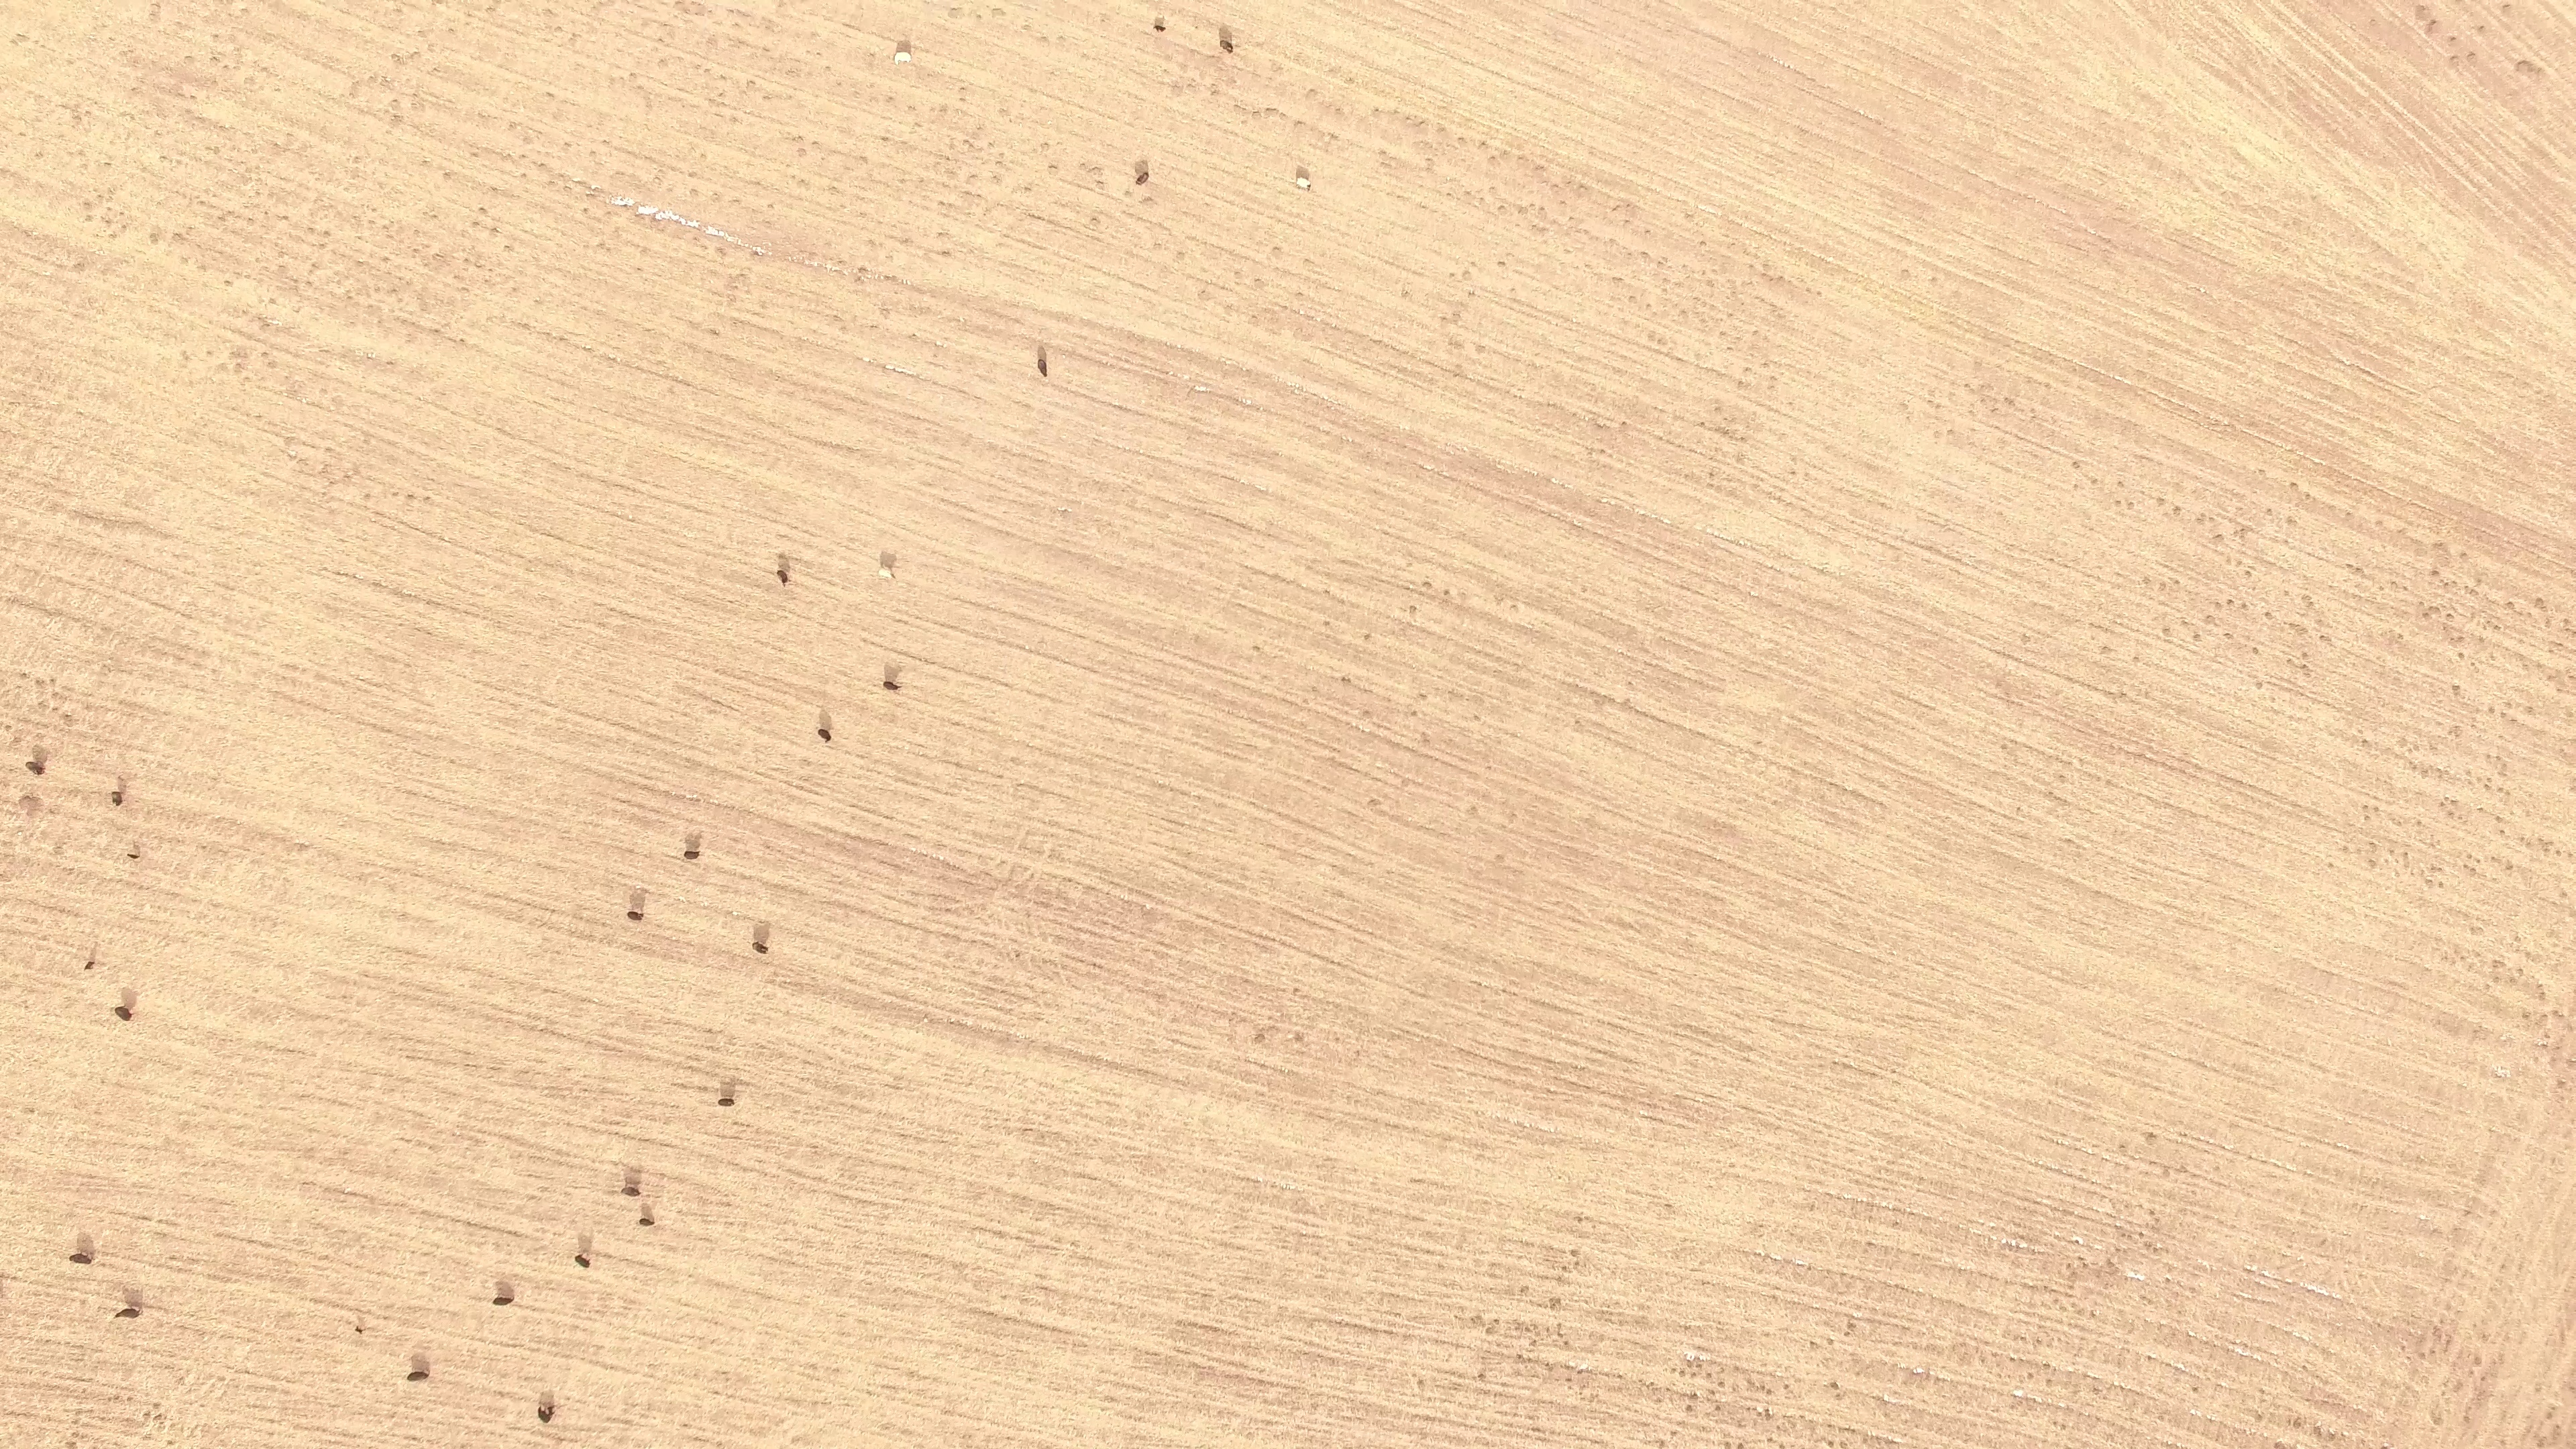sheep: (533, 1400, 557, 1430), (112, 1303, 146, 1322), (66, 1250, 99, 1268), (111, 1003, 139, 1024), (405, 1367, 431, 1387), (23, 759, 48, 778), (749, 937, 772, 957), (572, 1252, 592, 1271), (108, 787, 127, 809), (491, 1293, 515, 1310), (619, 1182, 643, 1200), (681, 846, 704, 863), (815, 725, 835, 745), (1133, 170, 1152, 189), (876, 565, 898, 582), (773, 568, 792, 590), (1218, 36, 1236, 56), (636, 1214, 658, 1230), (625, 908, 647, 924), (892, 50, 915, 66), (716, 1093, 738, 1110), (881, 677, 902, 694), (1034, 356, 1050, 379), (1293, 174, 1313, 192), (1150, 21, 1169, 35), (81, 958, 98, 973), (125, 851, 142, 863), (352, 1325, 365, 1336)
unknown: (877, 551, 900, 572), (630, 890, 648, 911), (636, 204, 659, 217), (1762, 1406, 1774, 1424), (21, 792, 38, 805), (2425, 17, 2438, 34), (1683, 1402, 1696, 1415), (627, 1165, 643, 1176), (2290, 1417, 2304, 1430), (2012, 1388, 2025, 1399), (1827, 1379, 1841, 1393), (1844, 1320, 1857, 1332), (775, 551, 789, 563), (1763, 1386, 1774, 1397), (1552, 1295, 1564, 1307), (1568, 1247, 1580, 1260), (2145, 1129, 2157, 1141), (2419, 609, 2432, 621), (1529, 1425, 1543, 1435), (2449, 682, 2463, 694), (1825, 1438, 1837, 1449), (1712, 1402, 1724, 1414), (1476, 1371, 1487, 1381), (1693, 1360, 1705, 1371), (2136, 1273, 2147, 1283), (2125, 1269, 2137, 1280), (2076, 1236, 2086, 1247), (1290, 985, 1301, 996), (1440, 587, 1452, 598), (2430, 568, 2441, 578), (2524, 64, 2536, 75), (2519, 57, 2531, 68), (1658, 1438, 1668, 1449), (1892, 1435, 1903, 1445), (2310, 1424, 2322, 1436), (2461, 1413, 2472, 1425), (150, 1400, 160, 1410), (124, 1394, 134, 1404), (1707, 1387, 1717, 1397), (2190, 1384, 2201, 1395), (1758, 1383, 1768, 1393), (1415, 1377, 1426, 1388), (1255, 1377, 1266, 1387), (1677, 1368, 1687, 1378), (1914, 1365, 1925, 1376), (2472, 1354, 2482, 1365), (1515, 1352, 1525, 1362), (2417, 1350, 2428, 1360), (1807, 1339, 1817, 1349), (1561, 1338, 1572, 1348), (1825, 1337, 1836, 1348), (1483, 1325, 1493, 1336), (1521, 1324, 1533, 1334), (1199, 1322, 1210, 1332), (1473, 1313, 1485, 1324), (1555, 1275, 1565, 1285), (2261, 1269, 2271, 1279), (1559, 1263, 1570, 1274), (2080, 1261, 2090, 1271), (1572, 1258, 1582, 1269), (2104, 1258, 2114, 1268), (2136, 1230, 2146, 1240), (1574, 1214, 1585, 1225), (2555, 1077, 2566, 1088), (1840, 1061, 1851, 1072), (1254, 1030, 1266, 1040), (130, 842, 142, 853), (297, 841, 307, 851), (2493, 814, 2504, 824), (2447, 797, 2458, 807), (1408, 708, 1419, 719), (2456, 650, 2466, 661), (2224, 596, 2235, 606), (2533, 595, 2544, 605), (616, 198, 627, 208), (1734, 1440, 1746, 1449), (1722, 1440, 1734, 1449), (1686, 1392, 1698, 1402), (2271, 1441, 2282, 1449), (66, 1440, 76, 1449), (1884, 1438, 1895, 1448), (164, 1438, 175, 1448), (1668, 1429, 1678, 1439), (1755, 1409, 1765, 1419), (1881, 1393, 1891, 1403), (1575, 1367, 1585, 1377), (1546, 1364, 1556, 1375), (1579, 1361, 1589, 1371), (2434, 1332, 2445, 1342), (2150, 1245, 2160, 1255), (701, 1084, 711, 1094), (1294, 1032, 1304, 1042), (2505, 863, 2515, 873), (2371, 804, 2381, 814), (2359, 737, 2369, 747), (2300, 661, 2310, 672), (2300, 650, 2310, 660), (1362, 632, 1372, 642), (1322, 619, 1332, 629), (2239, 601, 2249, 611), (2344, 561, 2354, 571), (709, 327, 719, 337), (751, 248, 761, 258), (626, 197, 636, 207), (388, 51, 398, 61), (1038, 1132, 1048, 1142), (2262, 610, 2272, 620), (2172, 504, 2182, 514), (434, 1, 445, 7), (2378, 1444, 2391, 1449)
